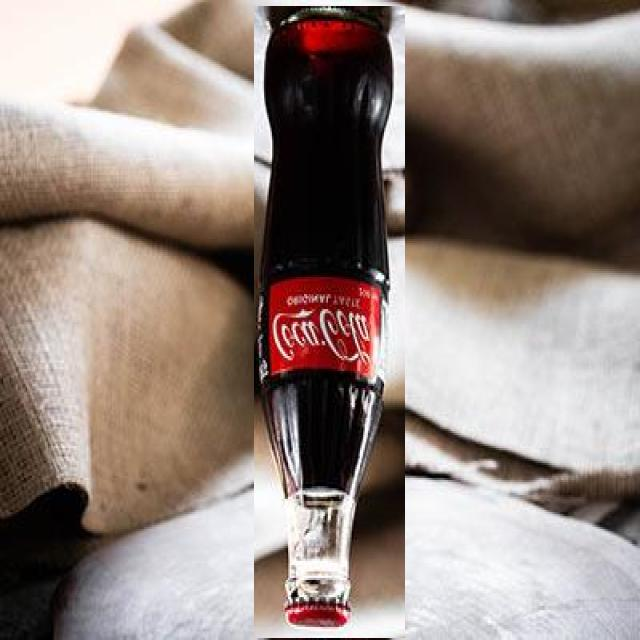coca-cola: (254, 6, 405, 638)
